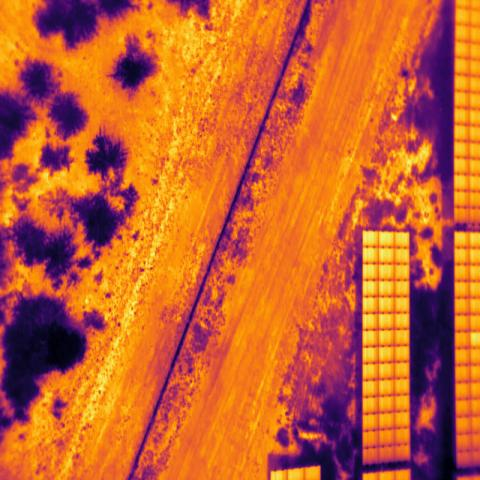fault: (470, 331, 480, 349)
